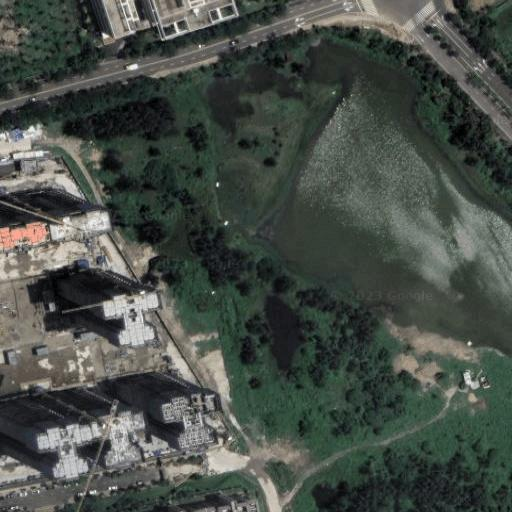building: (55, 269, 116, 327), (39, 389, 97, 446), (115, 373, 171, 431), (0, 400, 43, 458), (3, 186, 69, 220), (194, 493, 248, 512), (143, 502, 195, 512), (13, 151, 45, 159), (10, 128, 24, 142), (8, 350, 18, 366), (35, 346, 50, 355)
